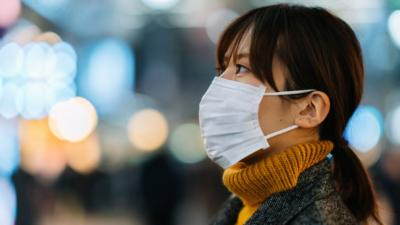surgical: (186, 70, 273, 172)
